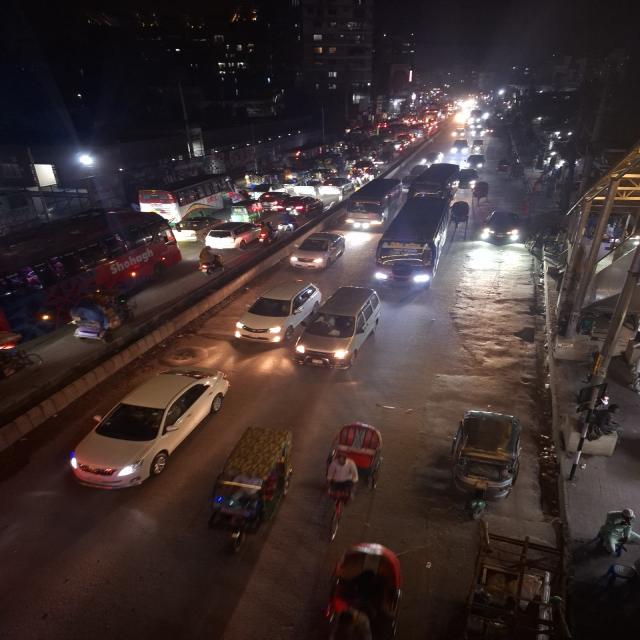bus: (371, 194, 471, 295), (37, 223, 183, 285), (144, 186, 220, 225), (339, 188, 386, 231), (404, 175, 453, 205)
car: (61, 362, 231, 497), (320, 272, 382, 386), (233, 277, 325, 346), (285, 229, 348, 277), (479, 208, 526, 250), (201, 224, 257, 252), (323, 176, 355, 195), (462, 153, 492, 173), (420, 150, 443, 164)
cng: (440, 404, 527, 524), (226, 204, 270, 224)
motorcycle: (197, 246, 224, 277), (257, 221, 278, 246)
pickup_van: (293, 166, 331, 196)
rickshaw: (206, 424, 300, 559), (317, 419, 387, 543), (67, 287, 139, 346), (450, 202, 474, 230), (468, 183, 494, 205)
